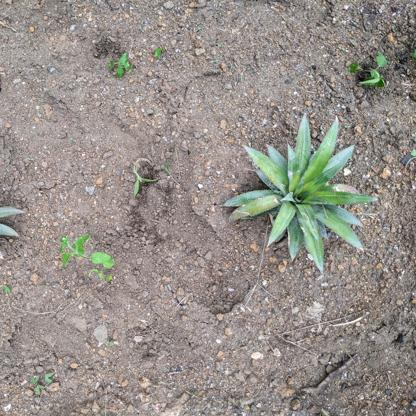pineapple: (220, 112, 377, 274)
weed: (54, 232, 116, 279), (357, 53, 390, 90), (105, 47, 137, 79)
